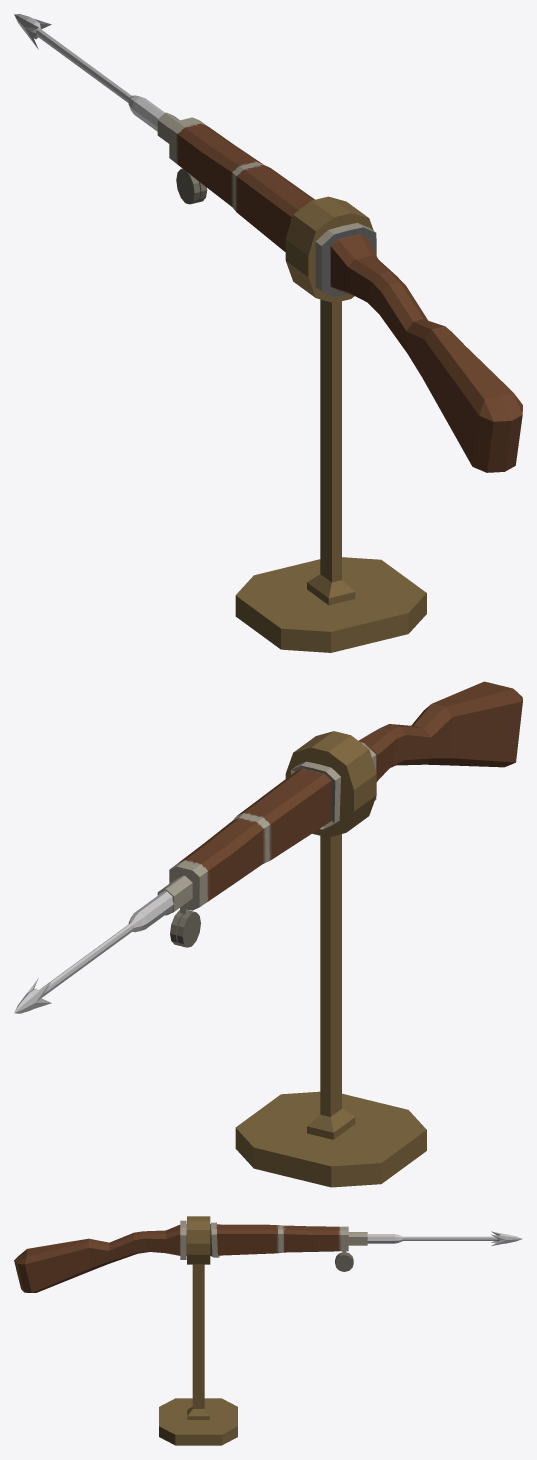
The model's file is HarpoonGunLoaded.fbx.
3 views of the same model, one above another, from view 1: azimuth 30°, elevation 25°; view 2: azimuth 150°, elevation 25°; view 3: azimuth 270°, elevation 25° (orthographic). The views are drawn at different scales.
Parts seen in each view (by area): view 1: Gun, Stand, Harpoon; view 2: Stand, Gun, Harpoon; view 3: Gun, Stand, Harpoon.
Part boxes in pixels (<box>): Gun: <box>157,112,522,472</box>; Stand: <box>235,196,426,652</box>; Harpoon: <box>14,14,164,131</box>; Stand: <box>235,731,426,1187</box>; Gun: <box>157,681,522,947</box>; Harpoon: <box>14,890,173,1013</box>; Gun: <box>14,1220,367,1292</box>; Stand: <box>159,1216,237,1445</box>; Harpoon: <box>367,1231,522,1245</box>.
Size of the model in its own units: 153 by 409 by 903.
Materials: 3 (3 with a texture image).
